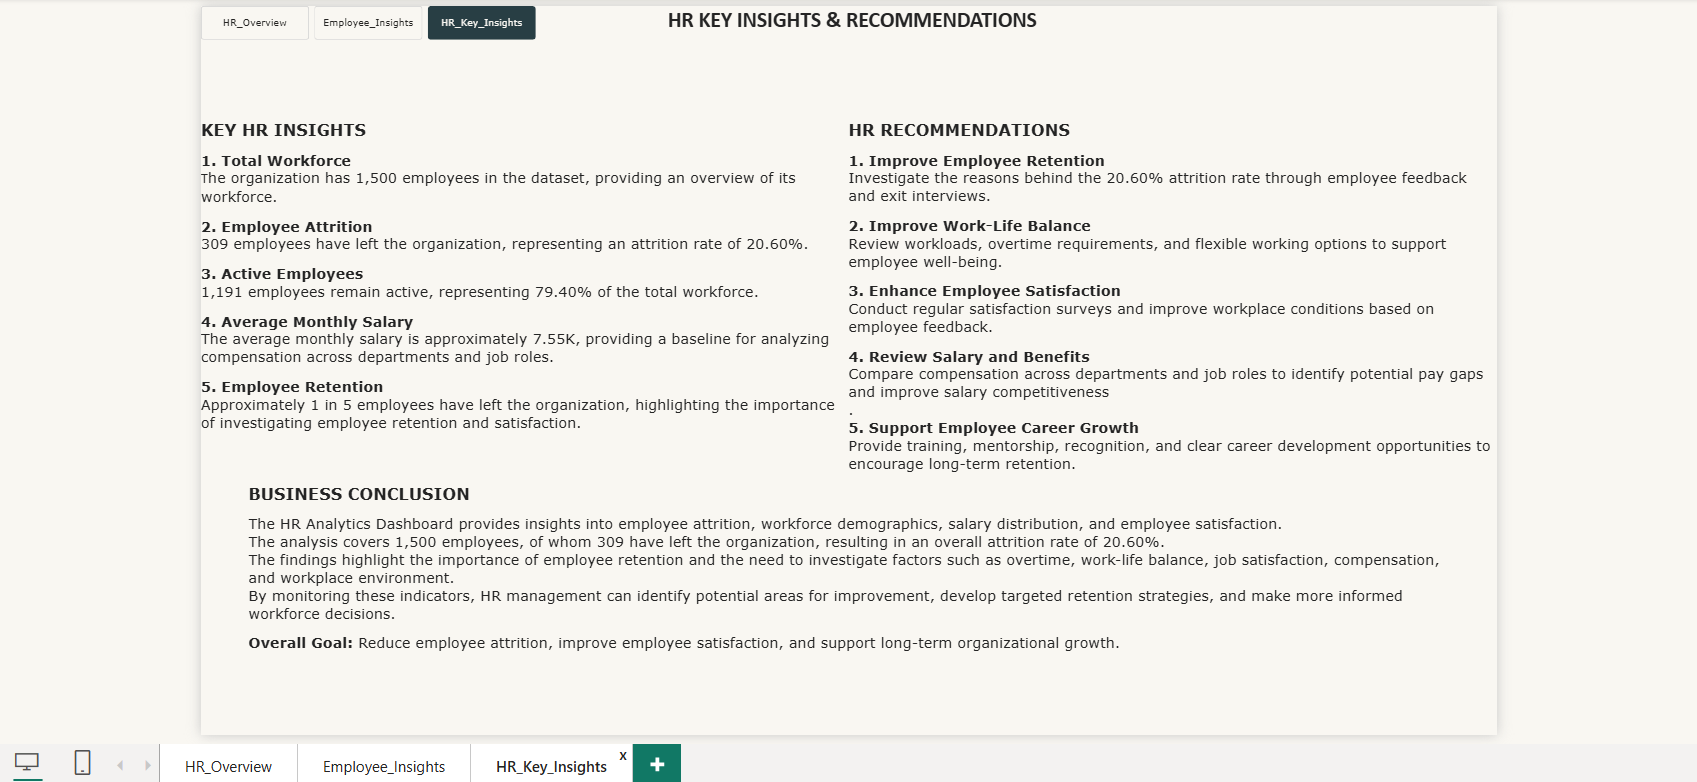

What the dashboard file says about the page in this screenshot:
{"tool":"powerbi","page":{"name":"HR_Key_Insights","canvas":[1920,1080],"ordinal":2},"visuals":[{"type":"textbox","box":[9.3,0,1911.1,63],"z":0},{"type":"textbox","box":[0,168.5,964.8,472.2],"z":1},{"type":"textbox","box":[959.3,168.5,961.1,538.9],"z":2},{"type":"textbox","box":[0,708,965,372],"z":3},{"type":"textbox","box":[70.4,707.4,1777.8,372.2],"z":4},{"type":"pageNavigator","box":[0,0,496.3,50],"z":5}]}

Visuals, with their boxes on the page's 1920x1080 design canvas (x1, y1, x2, y2). These are canvas units, not pixel positions in the 1697x782 screenshot, which may show the page scaled, cropped or inside an application window:
textbox: region(9, 0, 1920, 63)
textbox: region(0, 168, 965, 641)
textbox: region(959, 168, 1920, 707)
textbox: region(0, 708, 965, 1080)
textbox: region(70, 707, 1848, 1080)
pageNavigator: region(0, 0, 496, 50)
